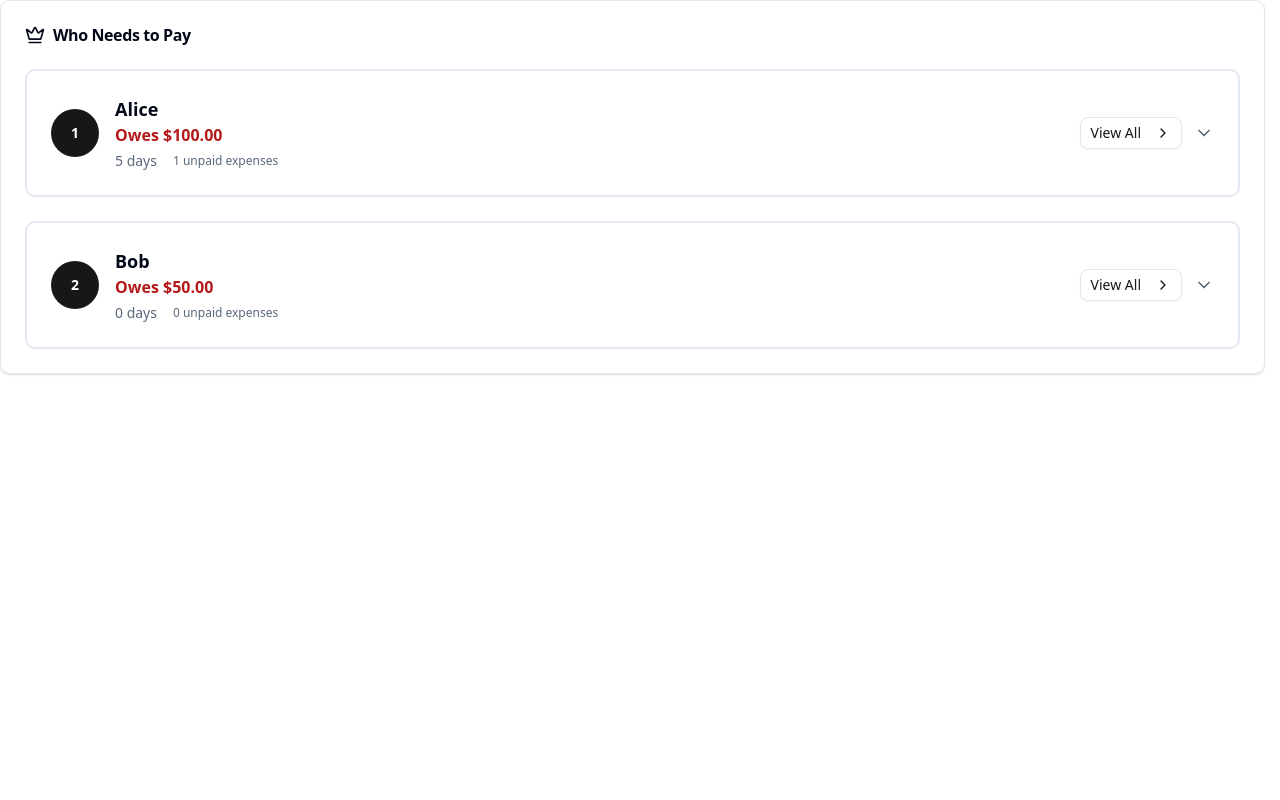
Scenario: DebtorsTab › shows bulk claim button for admin with negative balance
Click the button with test id "debtor-expand-toggle-1": click(75, 133) x1=51 y1=97 x2=1214 y2=170
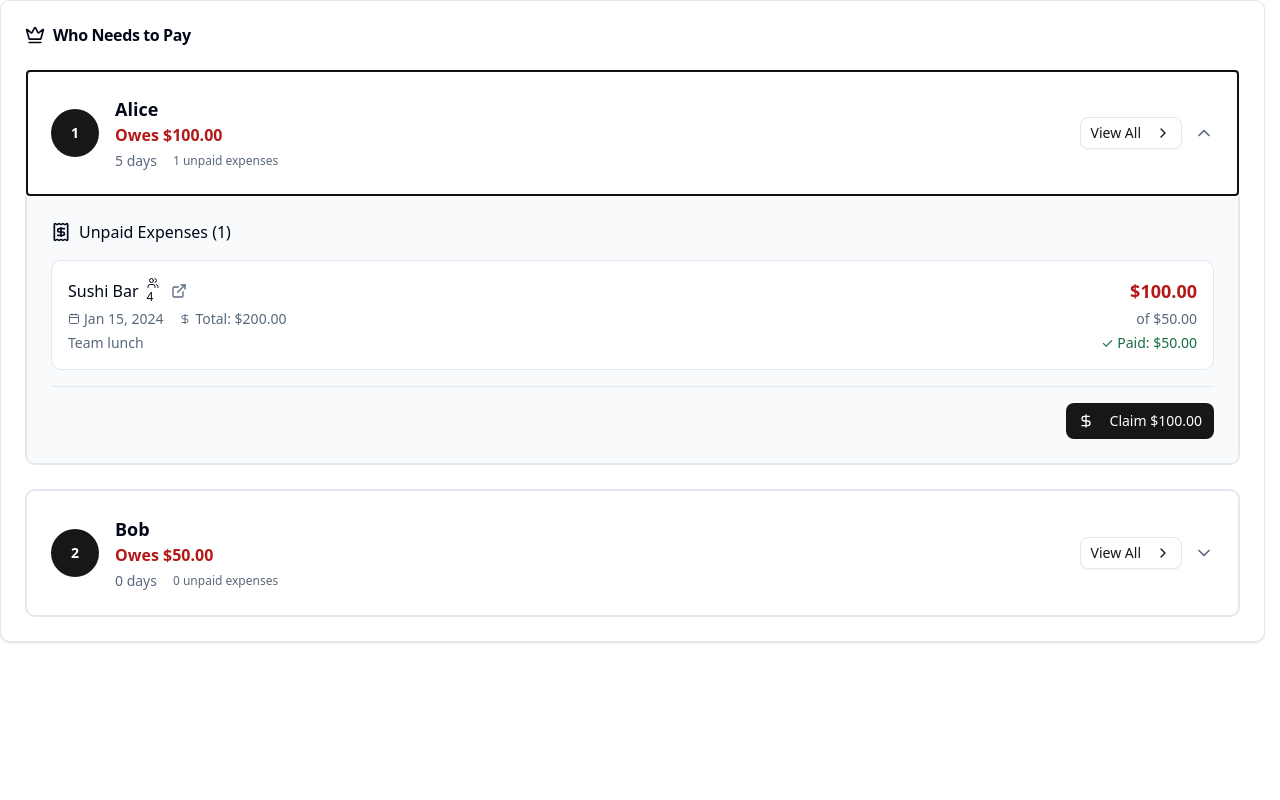
Check: the button "Claim $100.00" is shown, box x1=1066 y1=403 x2=1214 y2=439
